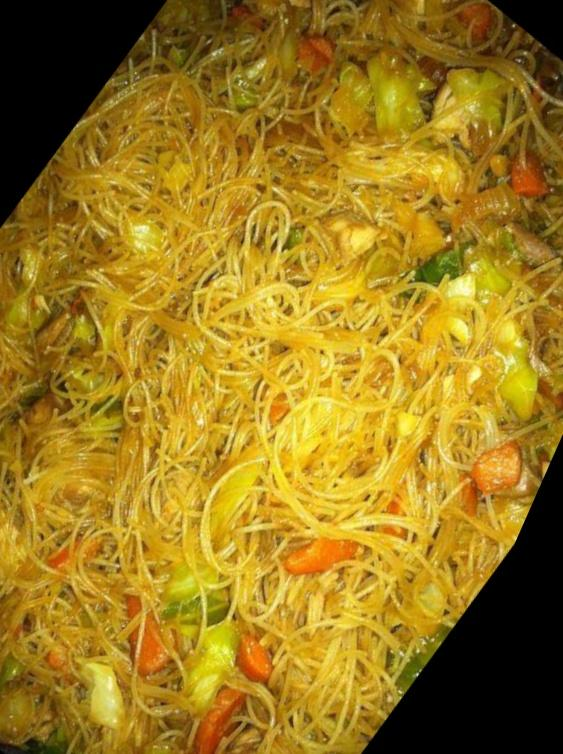pancit bihon: (0, 0, 562, 746)
